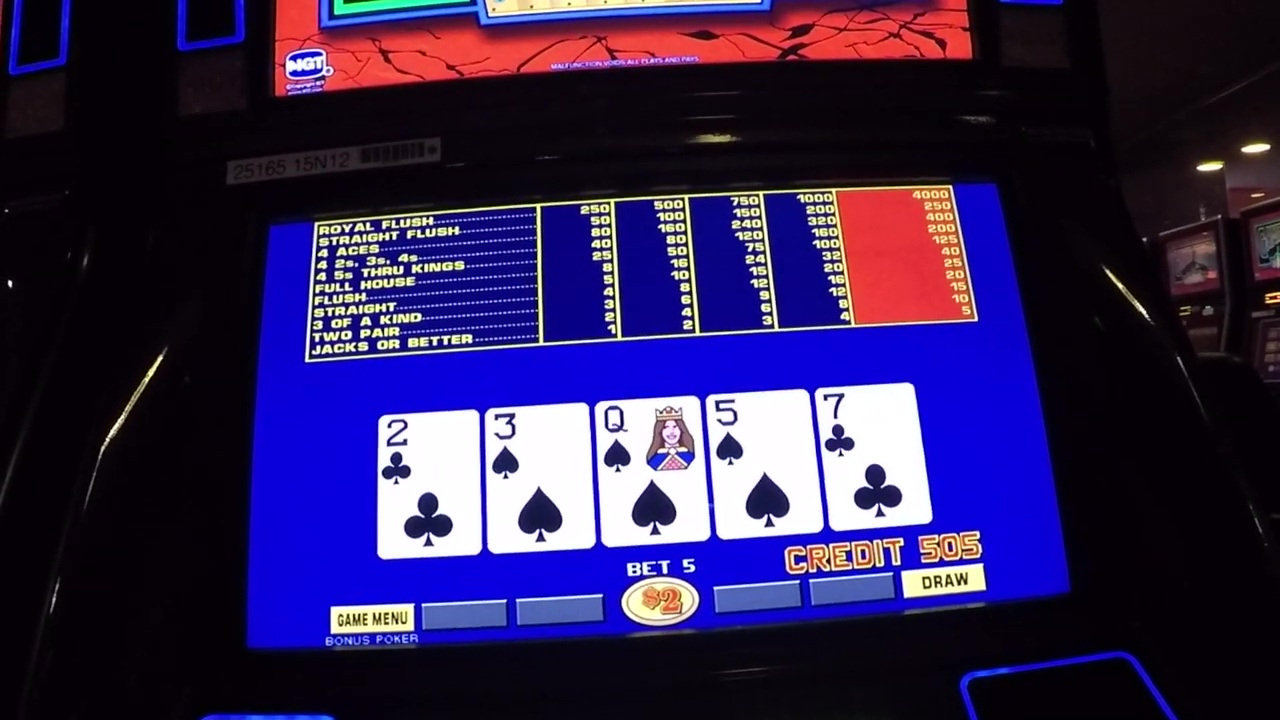C2: (382, 417, 479, 479)
C7: (824, 390, 917, 460)
S3: (489, 410, 589, 482)
S5: (711, 395, 812, 467)
SQ: (598, 401, 702, 472)
